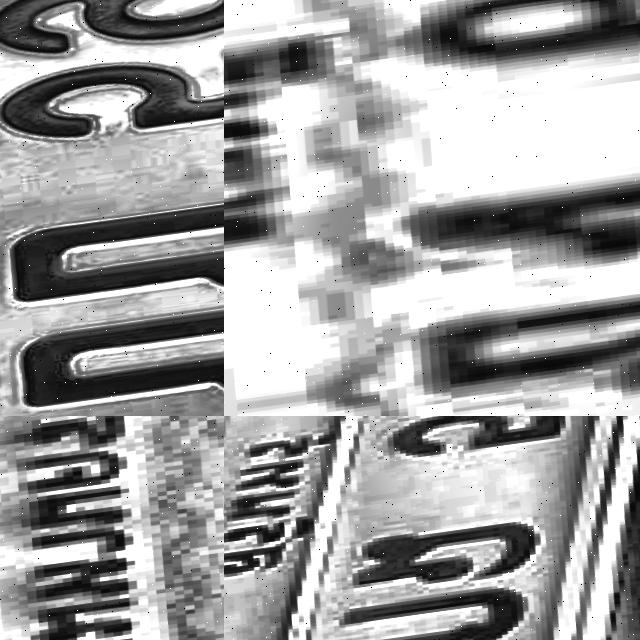license-plate: (224, 0, 640, 416), (0, 0, 224, 416), (224, 416, 640, 640), (0, 416, 224, 640)
